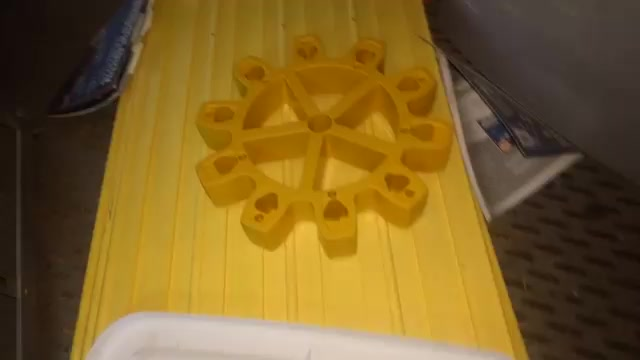gear: (174, 21, 464, 284)
